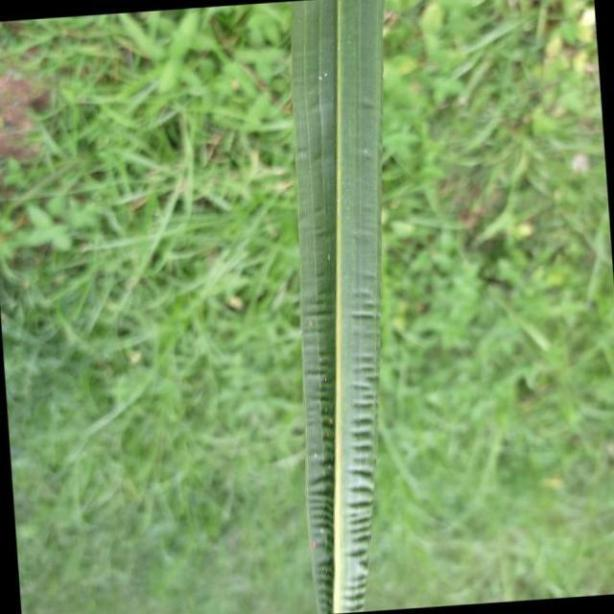Boron: (288, 0, 387, 614)
